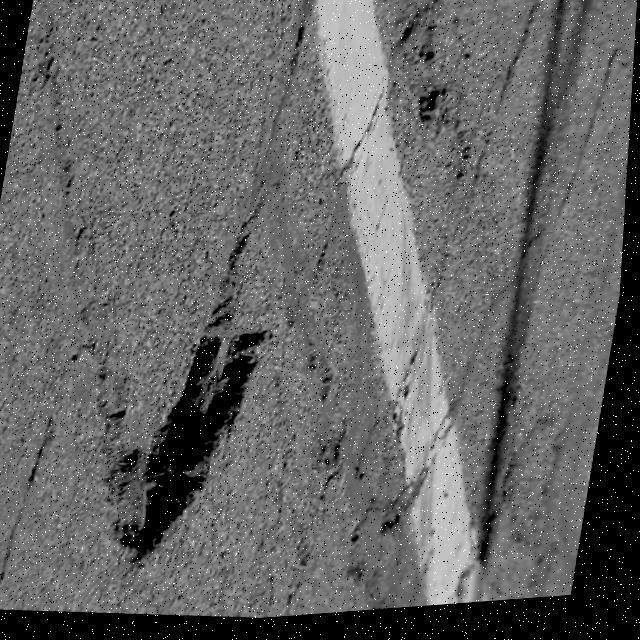pothole: (78, 292, 285, 591)
